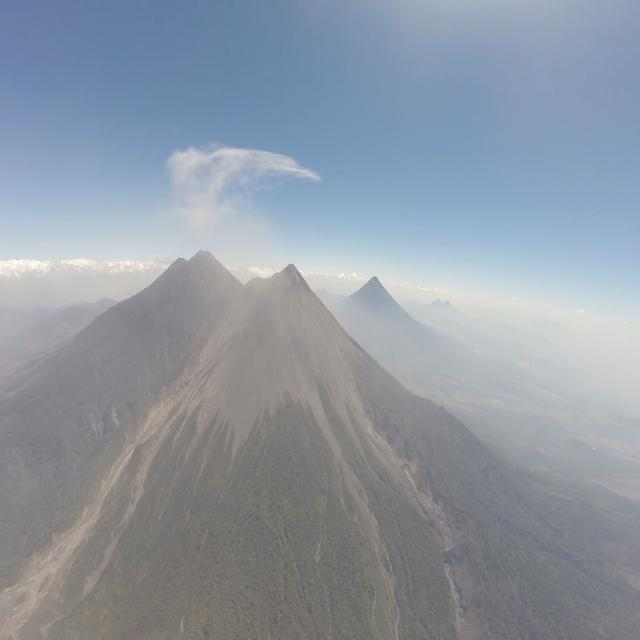Summit: (268, 262, 308, 286)
